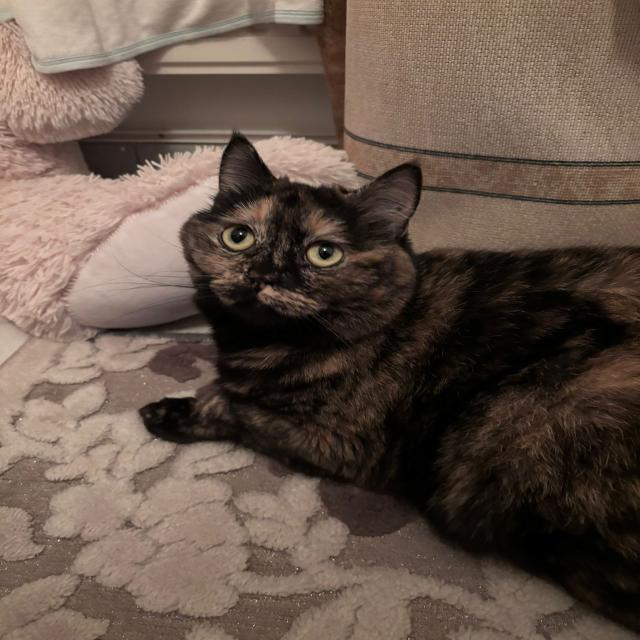authorized: (136, 128, 639, 636)
